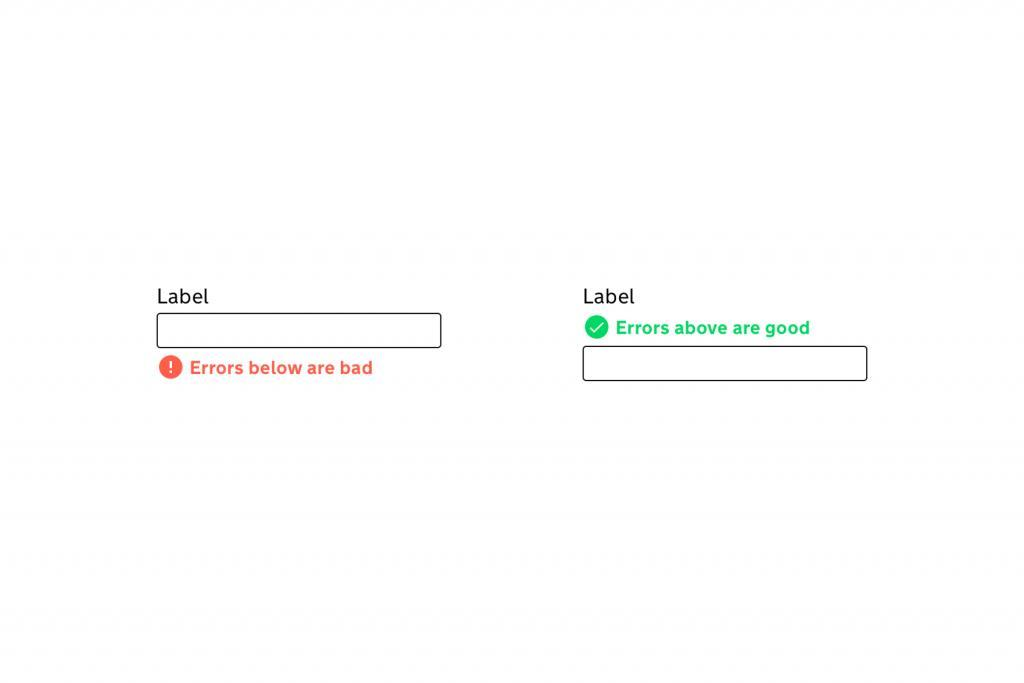input: (584, 347, 868, 382), (158, 315, 443, 349)
label: (616, 318, 813, 339), (190, 358, 374, 378), (151, 285, 213, 307), (584, 287, 637, 307)
